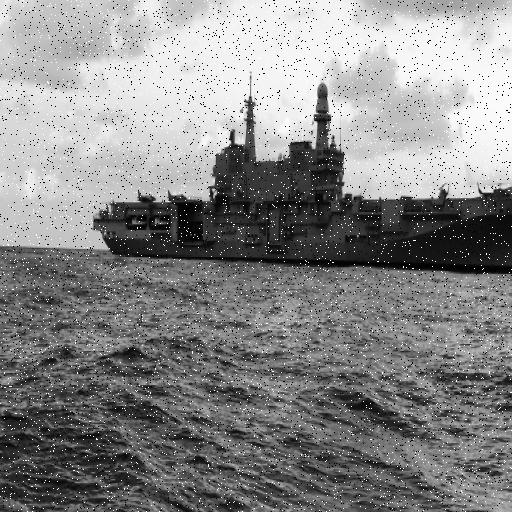Portanaves: (91, 66, 512, 280)
